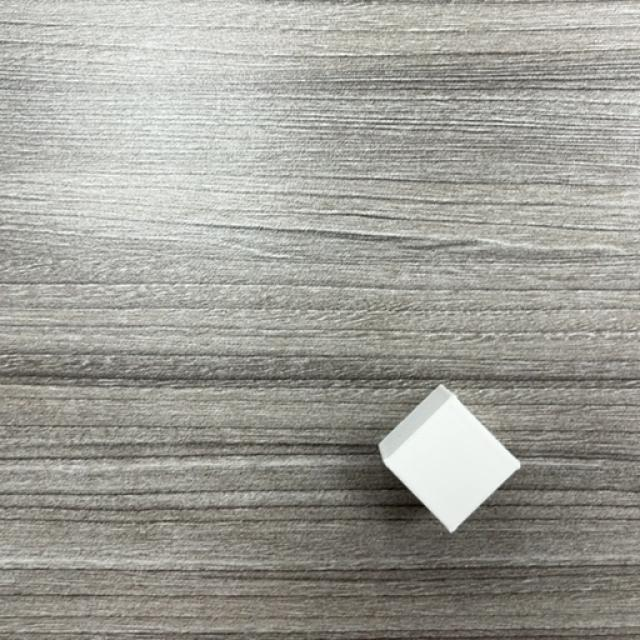Blanco: (376, 388, 521, 535)
